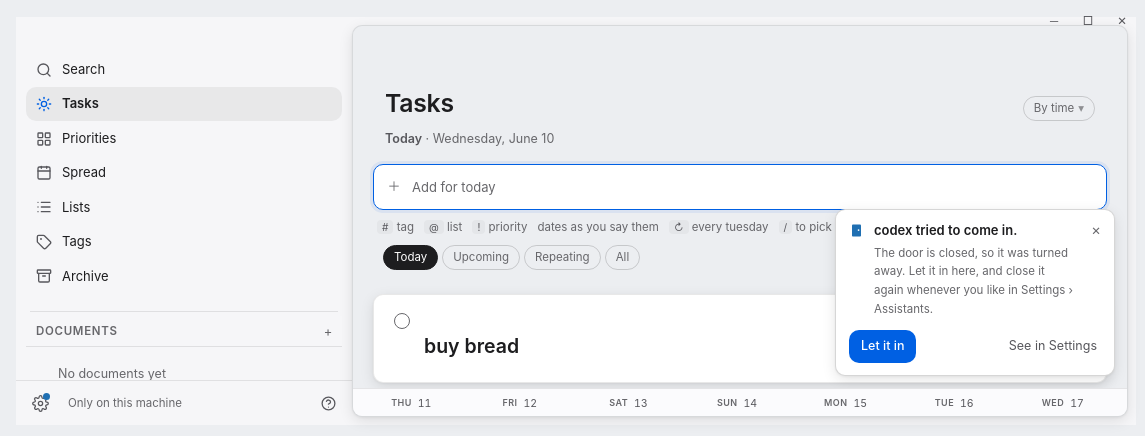
the card for an assistant turned away at the door › lets it in from the card without leaving the screen
The width and height of the screenshot is (1145, 436).
Expected: the heading "buy bread" is shown, left=424, top=334, right=519, bottom=358
Expected: the message named "your assistants" is shown, left=835, top=209, right=1115, bottom=376
What coordinates should you click on to do the following:
click the button "Let it in"
I would click on:
 (883, 347)
Its box is left=849, top=330, right=916, bottom=363.
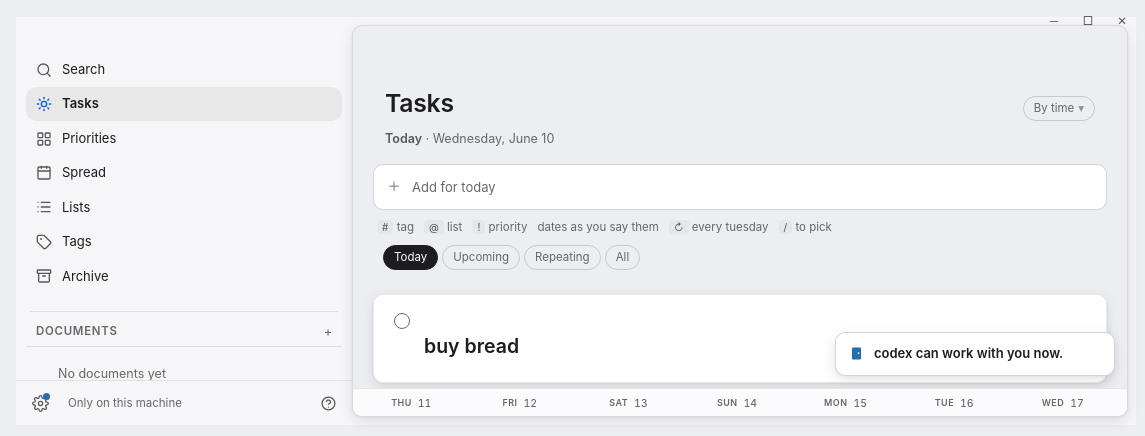
Expected: the text "codex can work with you now." is shown, left=874, top=345, right=1063, bottom=361
Expected: the text "assistants" is gone
